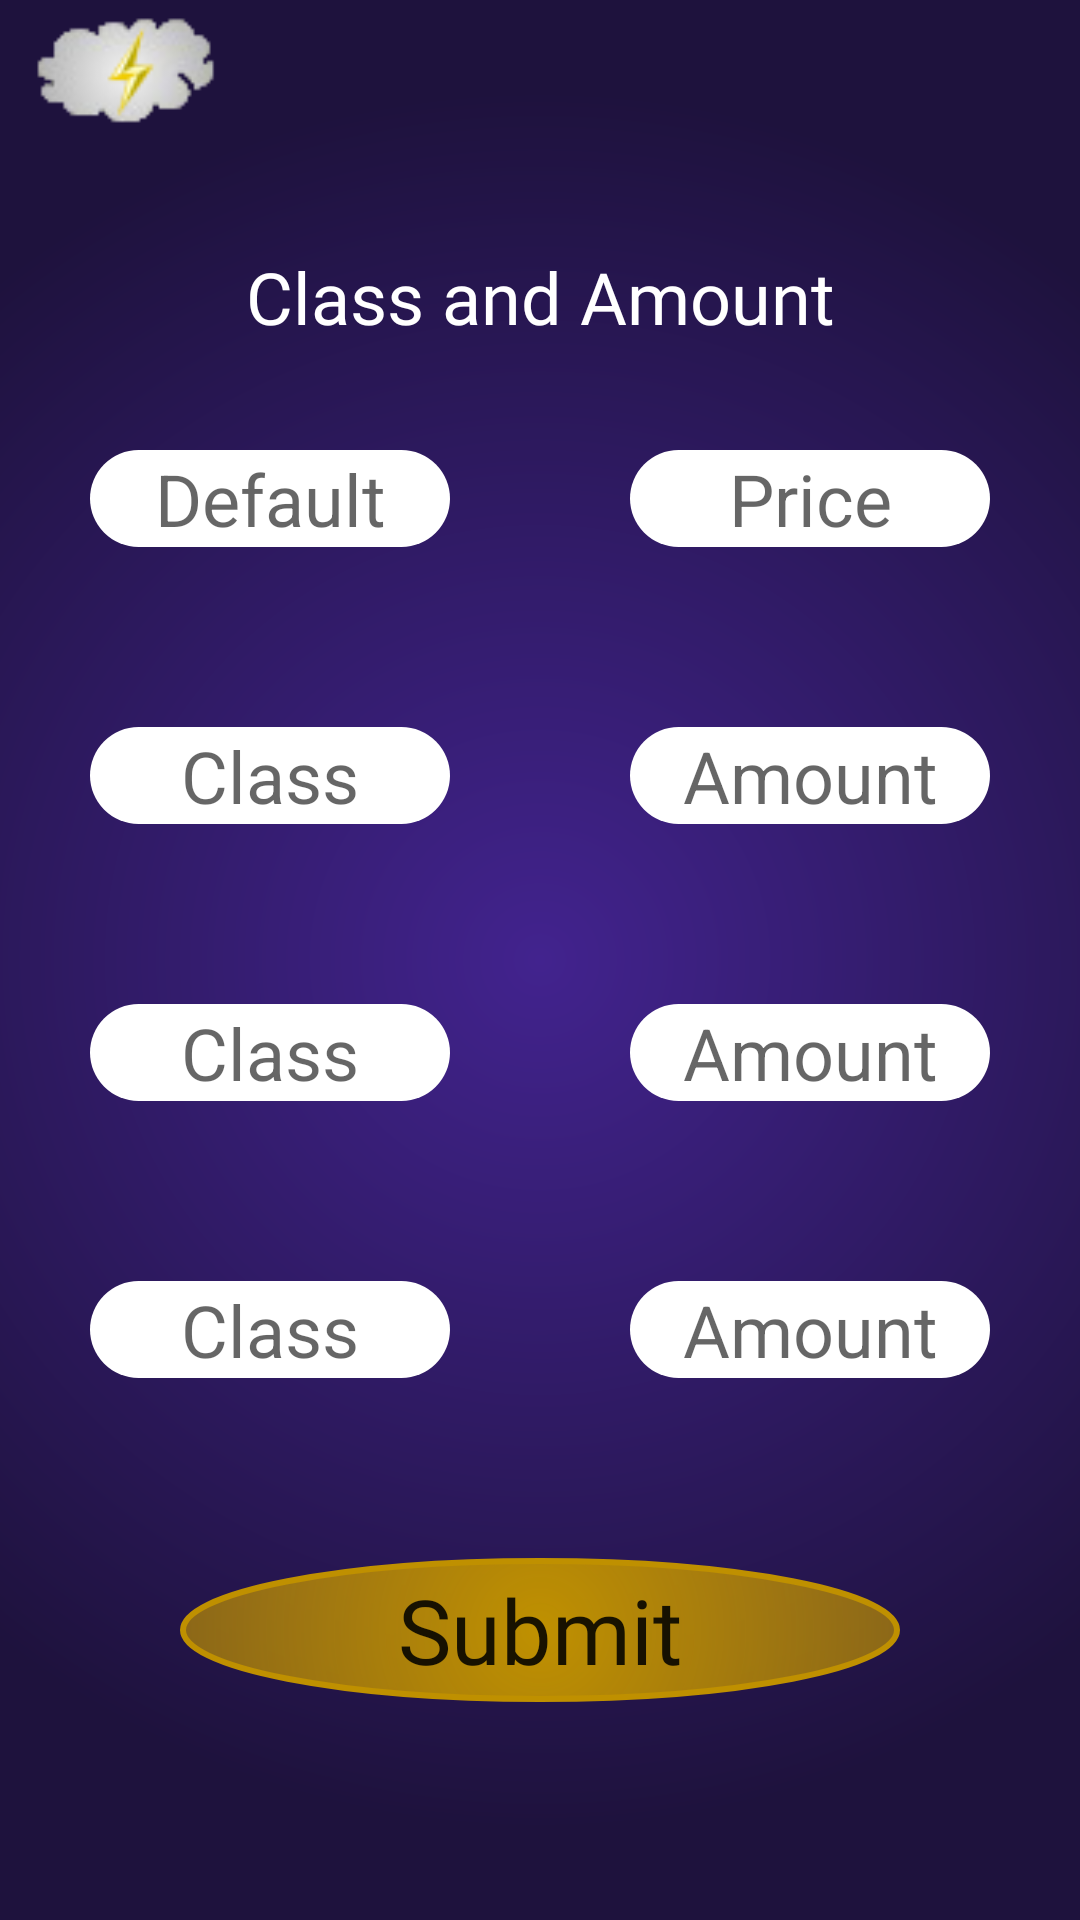

Icons on this 1080 x 1920 Android screen, each with the point to tap as [x,y]:
lighting bolt: [125,70]
